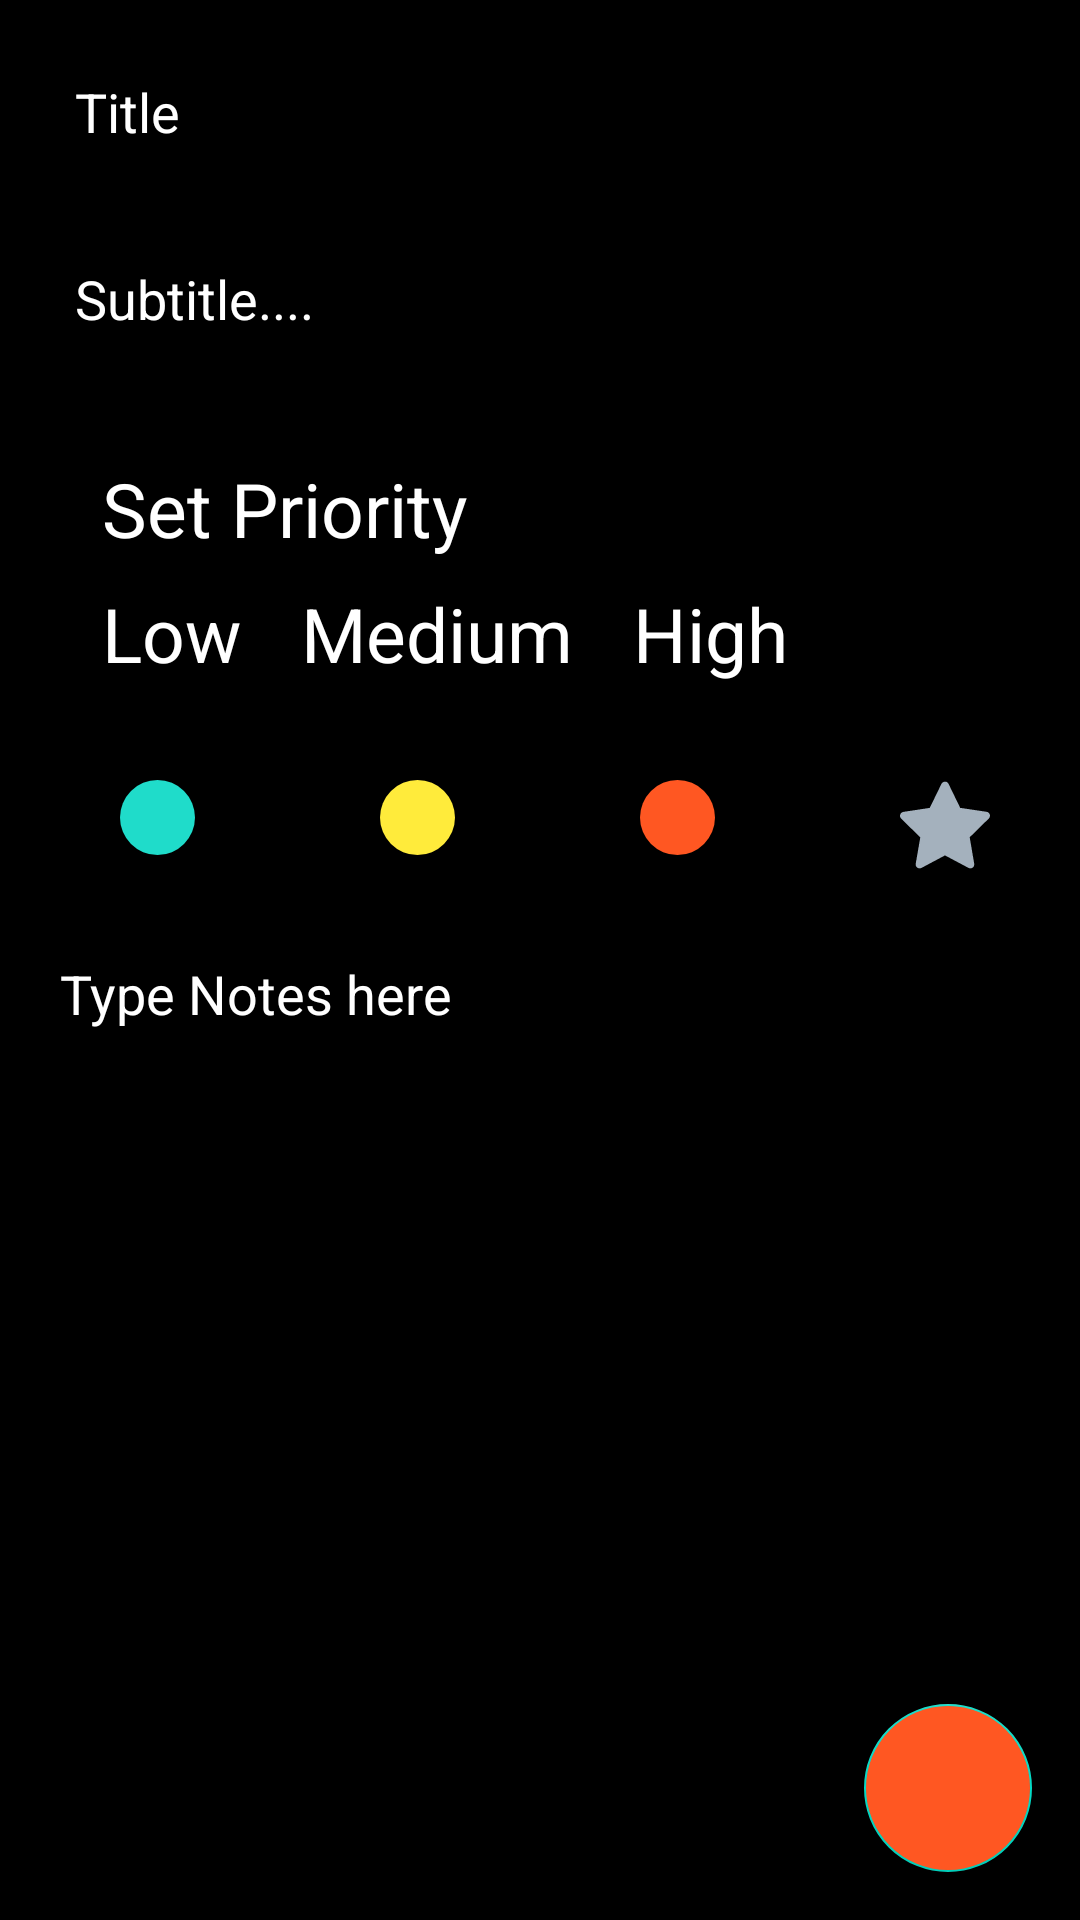

Screen size 1080*1920. Icon name, then its center in pixels as [x,y]:
dot: [157,817]
